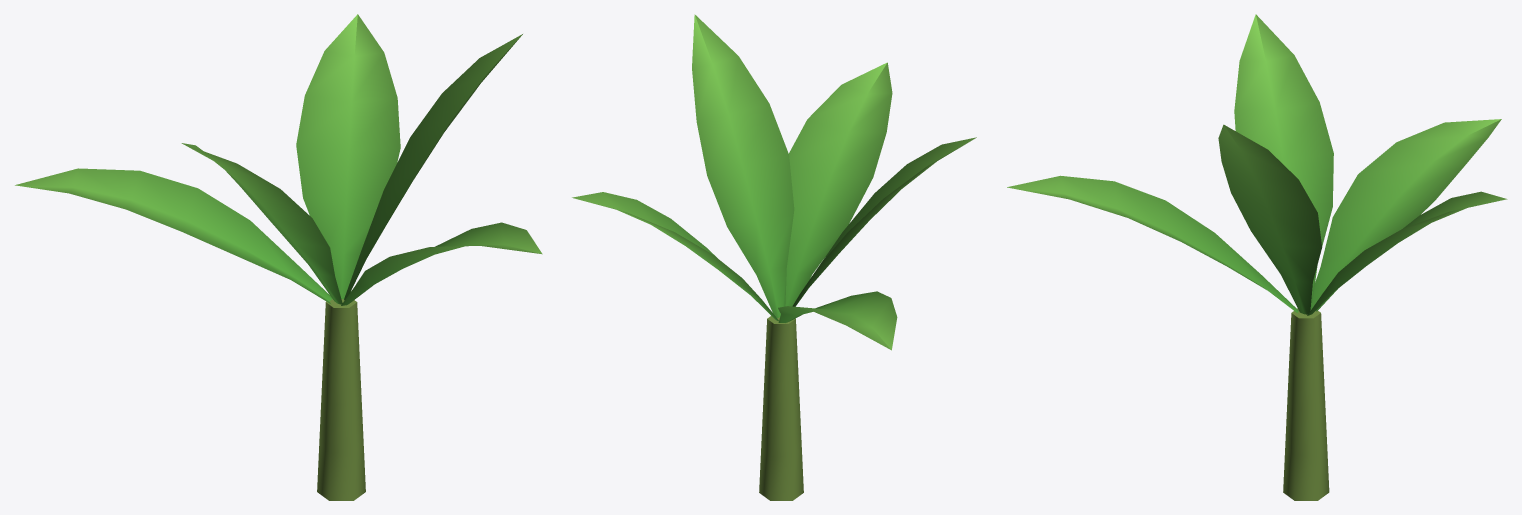
File: pisang_anakan.glb
3 renders of one model, left to right at view 1: azimuth 30°, elevation 25°; view 2: azimuth 150°, elevation 25°; view 3: azimuth 270°, elevation 25°, orthographic. The views are drawn at different scales.
Visible parts, largest first — view 1: pisang_anakan; view 2: pisang_anakan; view 3: pisang_anakan.
Boxes of the visible parts, <box> form: pisang_anakan: <box>15,14,542,500</box>; pisang_anakan: <box>572,14,976,500</box>; pisang_anakan: <box>1007,14,1507,500</box>.
Bounding box in the file's own units: 1.2 × 1.44 × 1.52.
